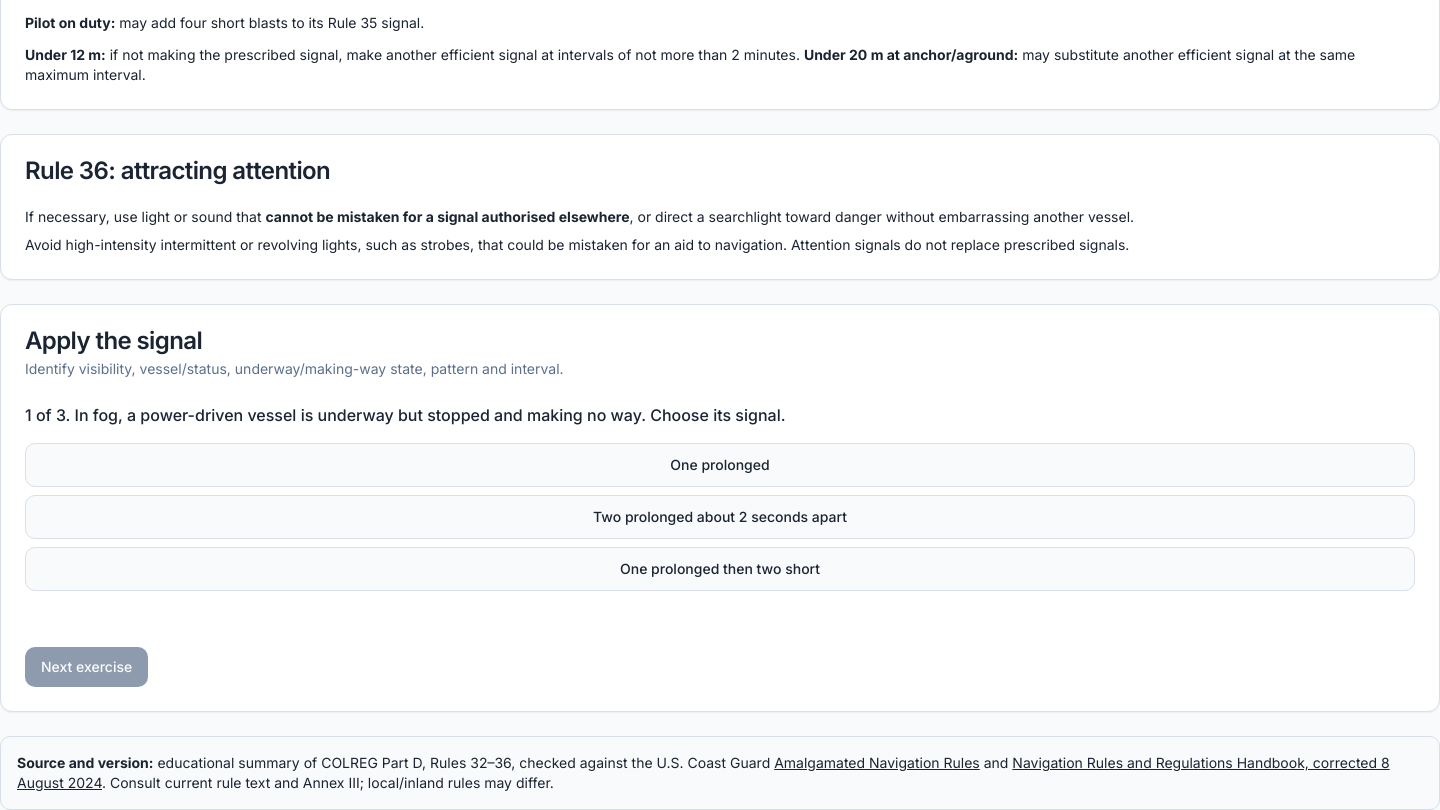
Test: COLREG Part D safety-critical content › gives corrective and correct feedback in applied choices
This screenshot has width=1440, height=810.
(page scrolled)
Click the button "One prolonged": click(720, 465) [25,443,1415,487]
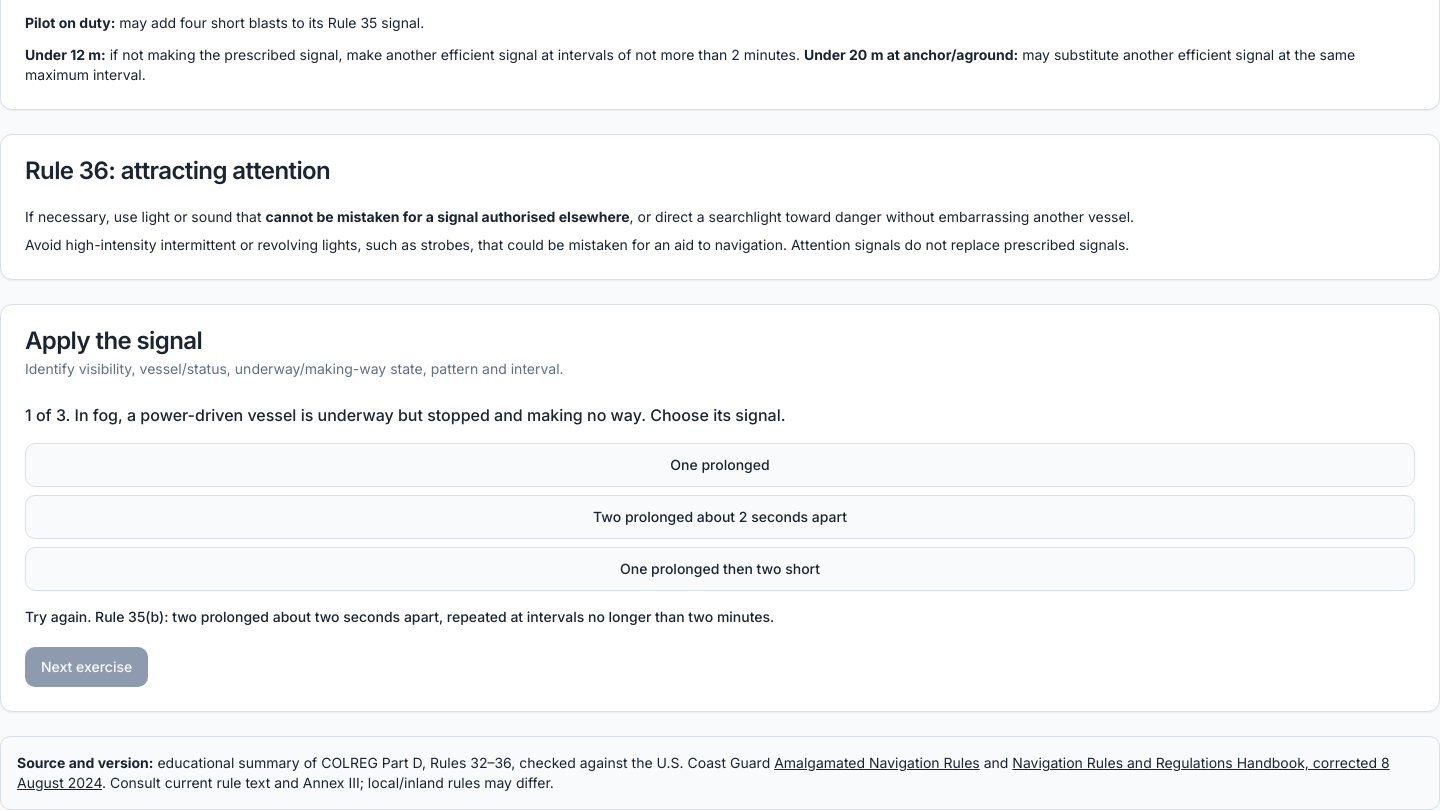
Expected: the message shows "Try again", [25,608,774,625]
Click the button "Two prolonged about 2 seconds apart": click(720, 517) [25,495,1415,539]
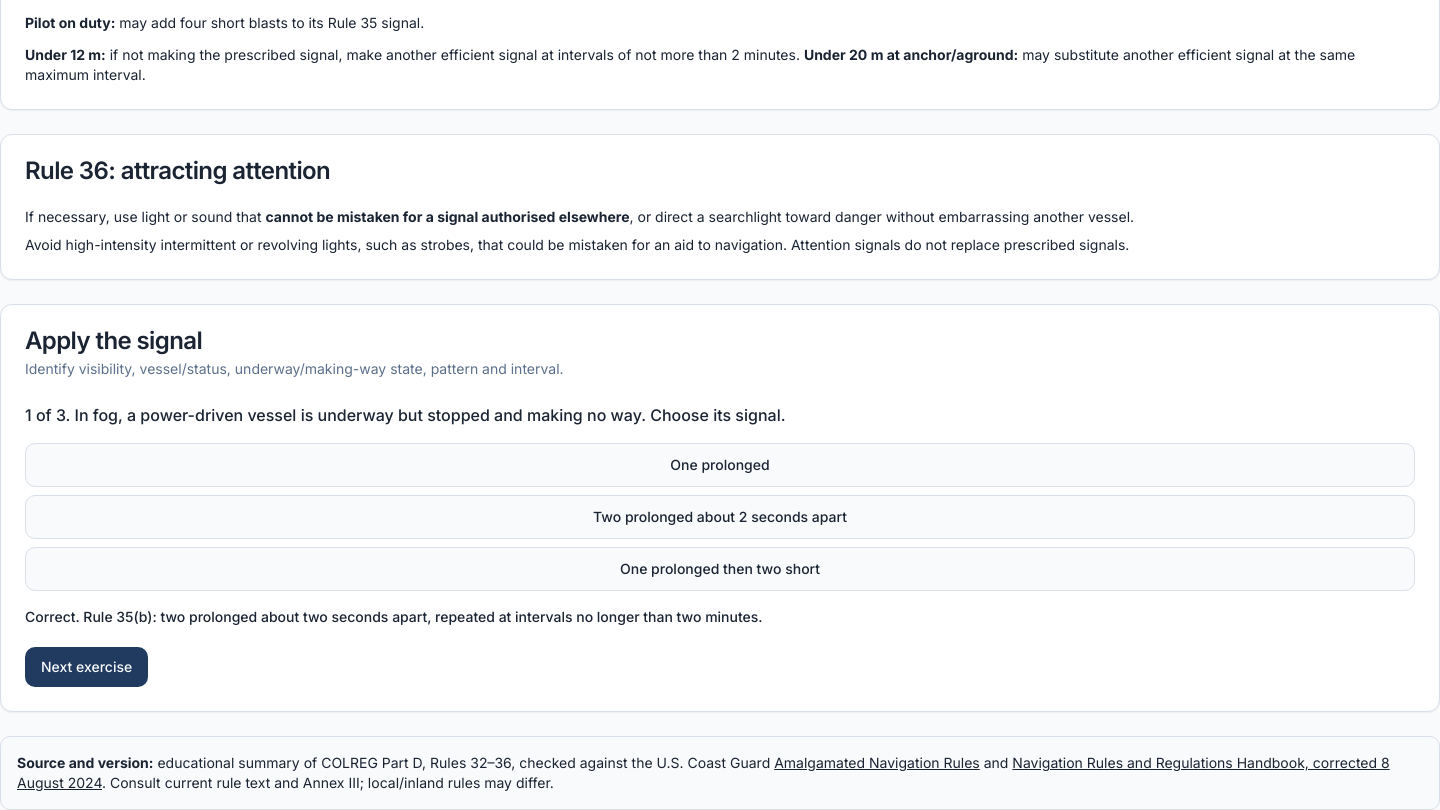
Expected: the message shows "Correct", [25,608,763,625]
Expected: the button "Next exercise" is enabled, [25,647,148,687]
